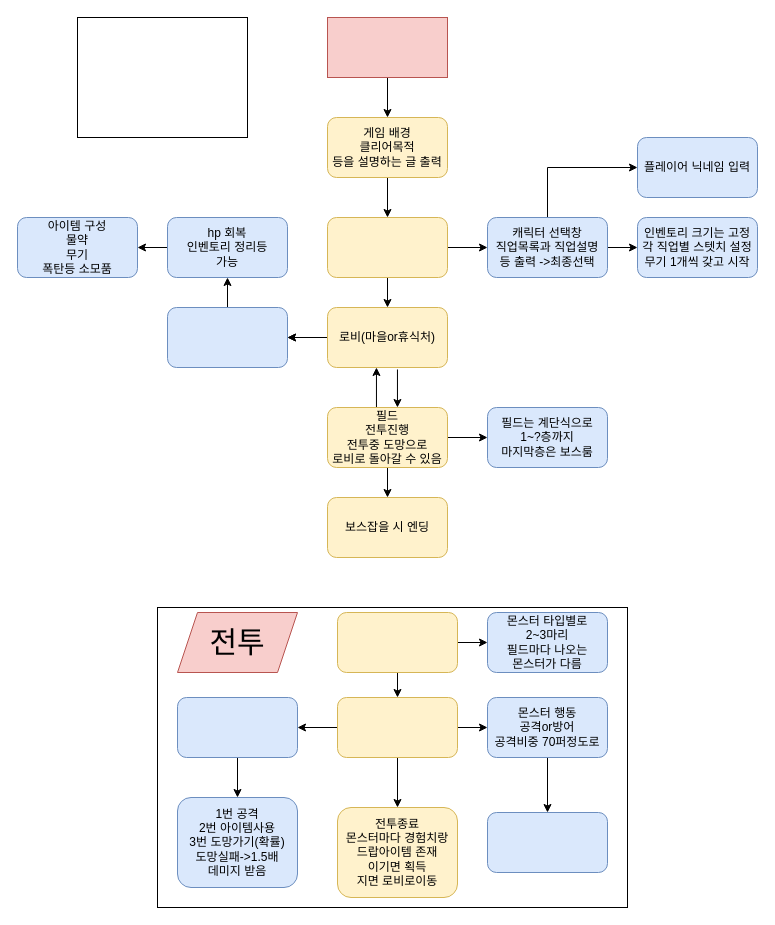
The diagram is 775 pixels wide and 925 high, and some of its shapes have lost their labels. Here are the shapes that lost their labels. From the top down, the centre of each, then its label:
At (387,47): "타이틀 화면 아무키나 입력시 시작".
At (162,77): "빌딩 탈출?".
At (387,247): "플레이어 캐릭터 선택 직업 2~3개 정도".
At (227,337): "어디로 진행할지 여기서 선택 필드or상점".
At (397,642): "몬스터는 랜덤으로 1마리 선택됨".
At (237,727): "플레이어 선택지".
At (397,727): "턴제 전투 방식 플레이어 선공 그후 1턴씩 교환".
At (547,842): "보스몹은 턴마다 카운트+1씩해서 3~4턴마다 스킬 사용하게".
